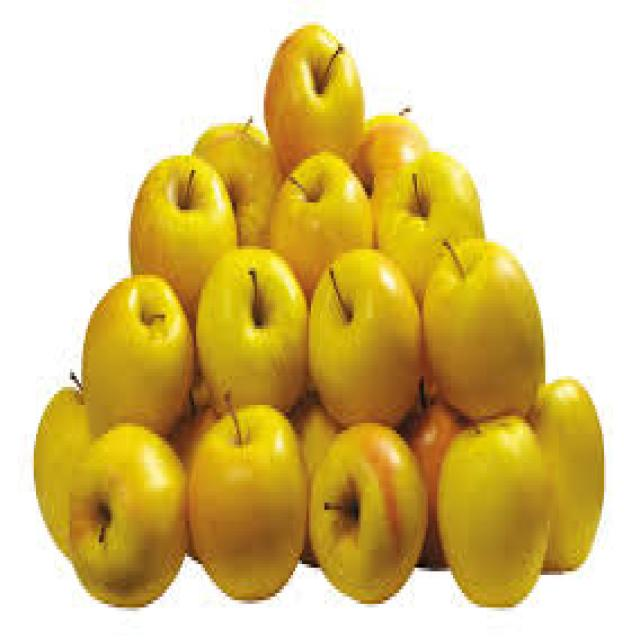non_orange: (408, 199, 560, 427), (401, 228, 555, 426), (64, 404, 205, 610), (511, 337, 625, 582), (288, 253, 444, 431), (187, 372, 302, 608), (178, 82, 310, 278), (434, 395, 556, 605), (324, 86, 452, 282), (306, 229, 428, 422), (185, 222, 302, 422), (12, 356, 125, 548), (110, 150, 238, 316), (308, 408, 422, 590), (67, 267, 189, 421), (256, 8, 370, 167), (256, 122, 370, 281), (372, 124, 477, 293)
